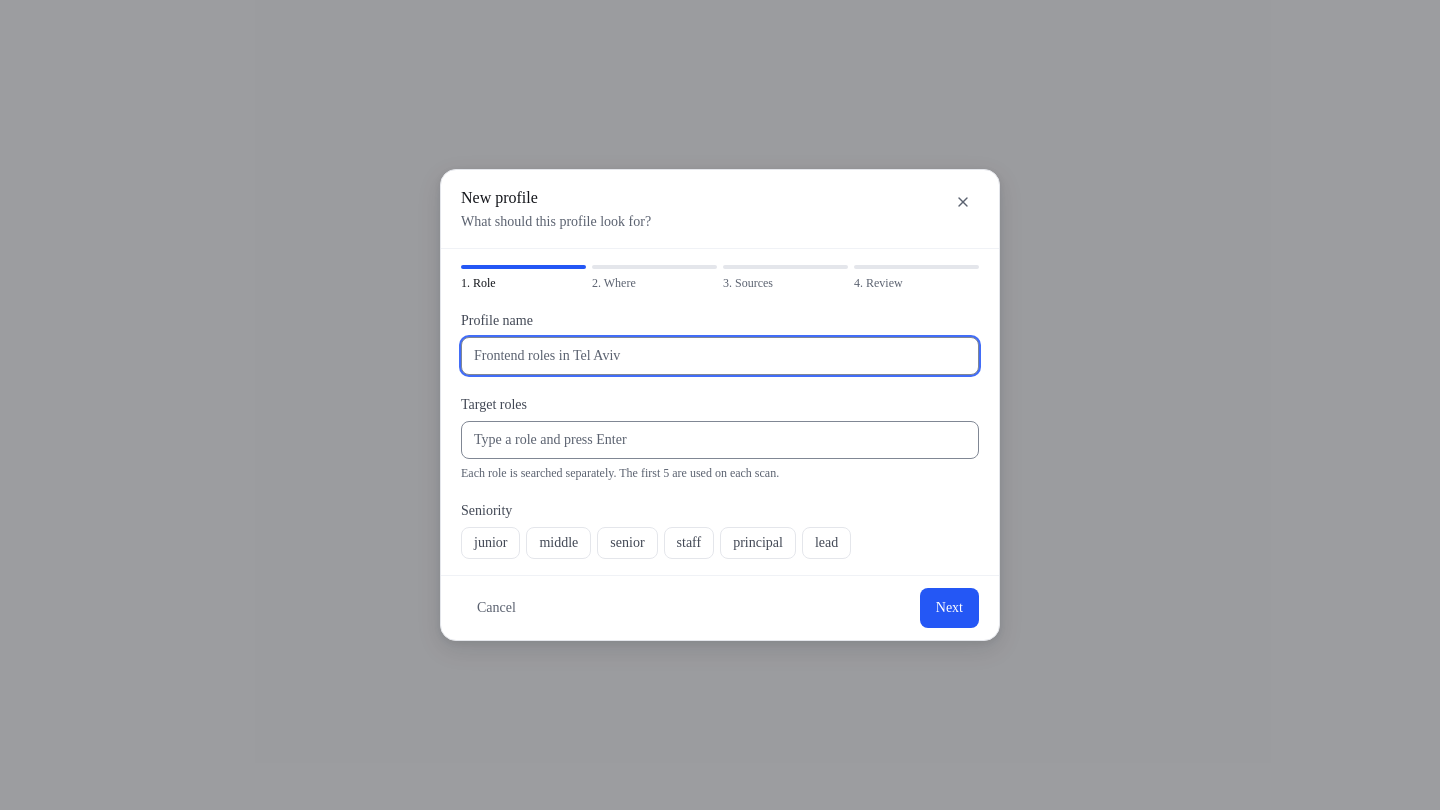
Test: ProfileFormDialog create › shows the server message and stays open when the profile is rejected
Type "Frontend" into the field labelled "Profile name" at coordinates (720, 356), box [461,337,979,375]
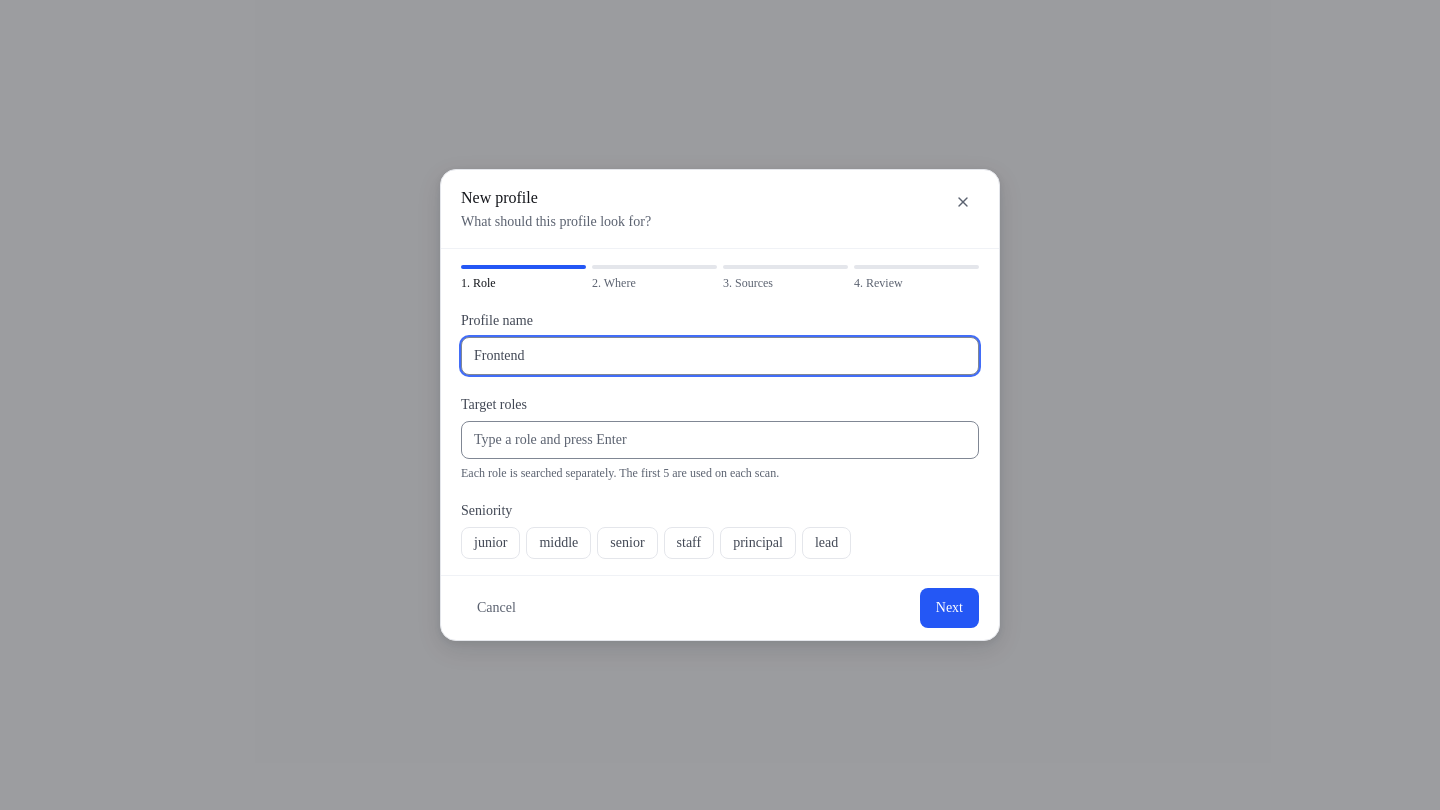
Type "React developer" into the field labelled "Target roles" at coordinates (720, 440), box [461,421,979,459]
Then press Enter
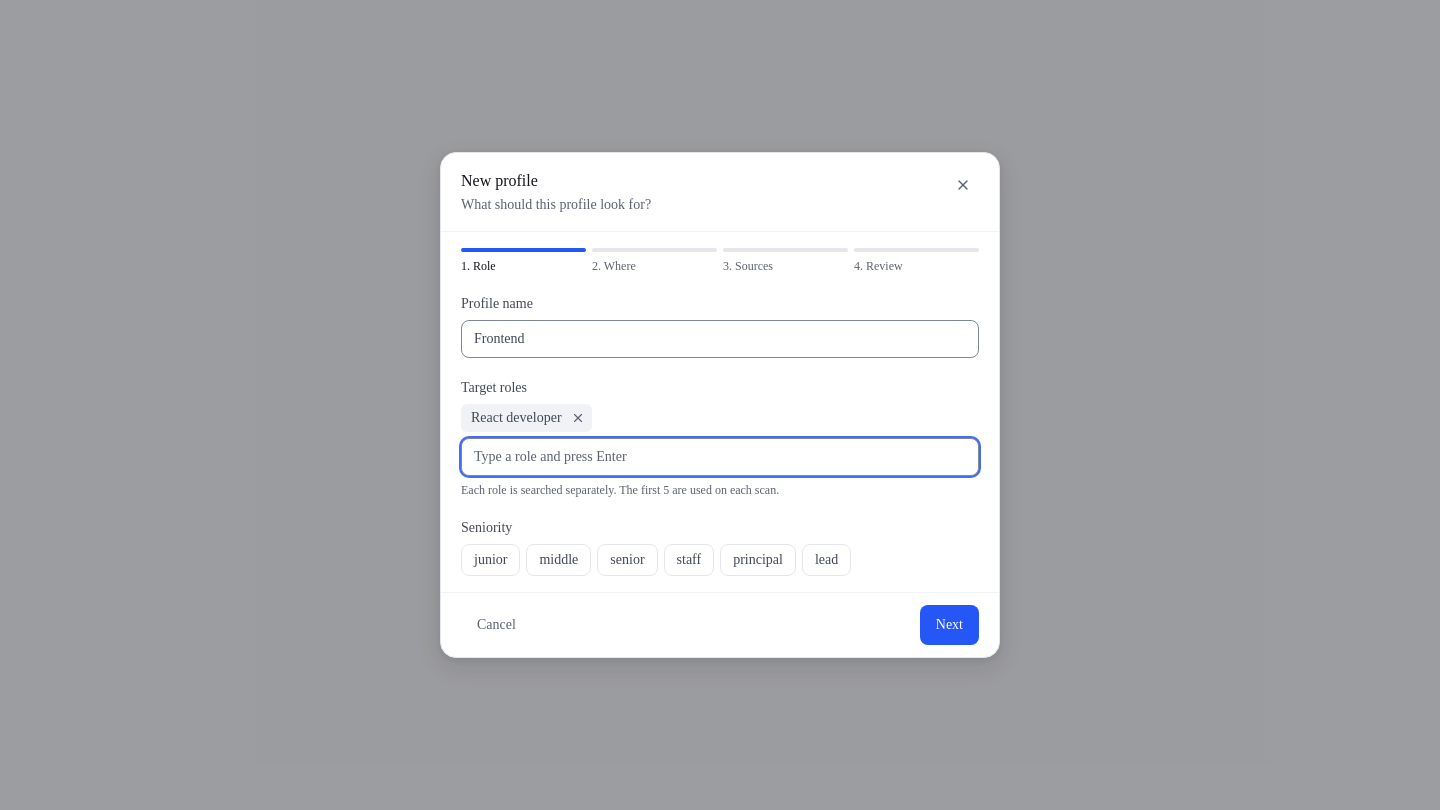
Click the button "Next" at coordinates (949, 625), box [920,605,979,645]
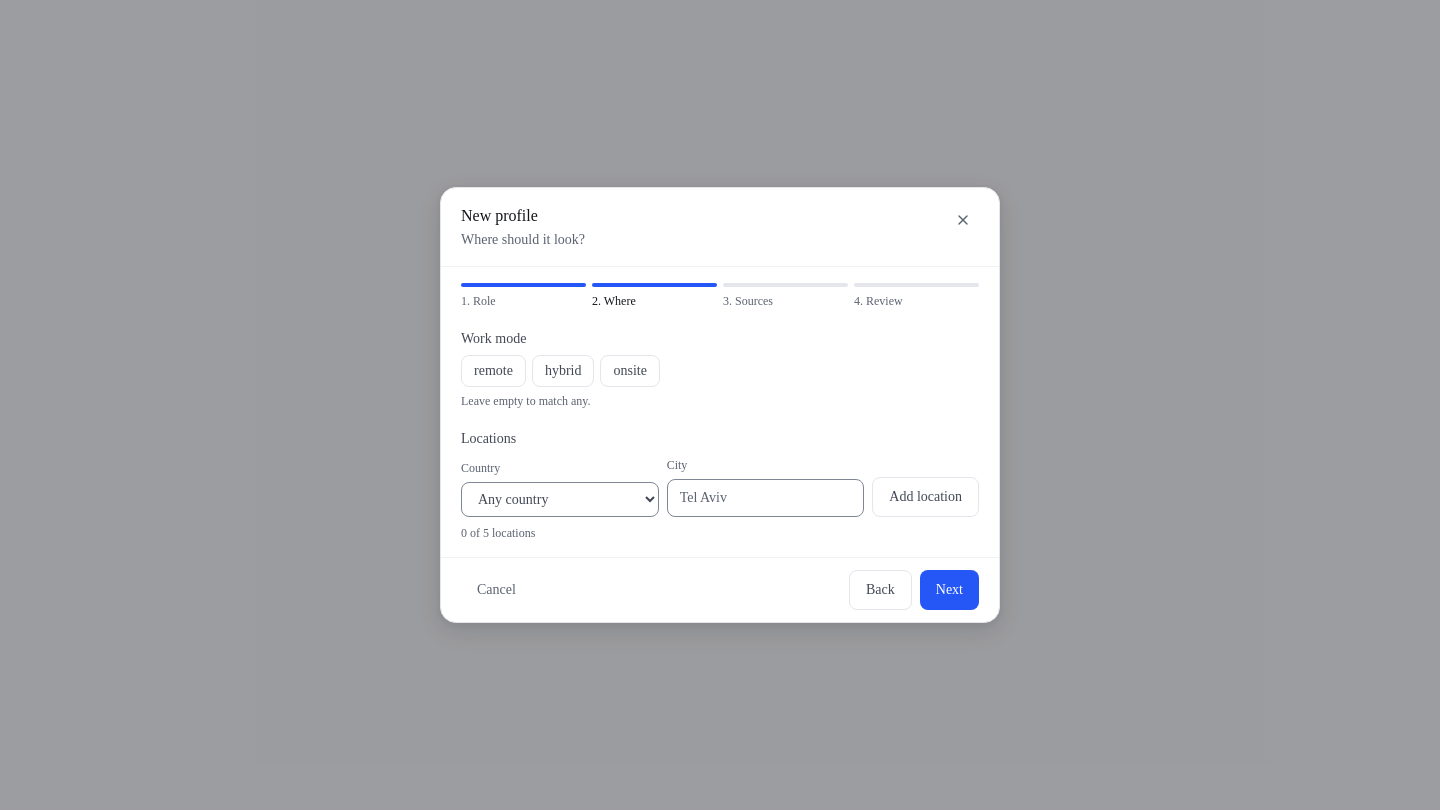
Click the button "Next" at coordinates (949, 590), box [920,570,979,610]
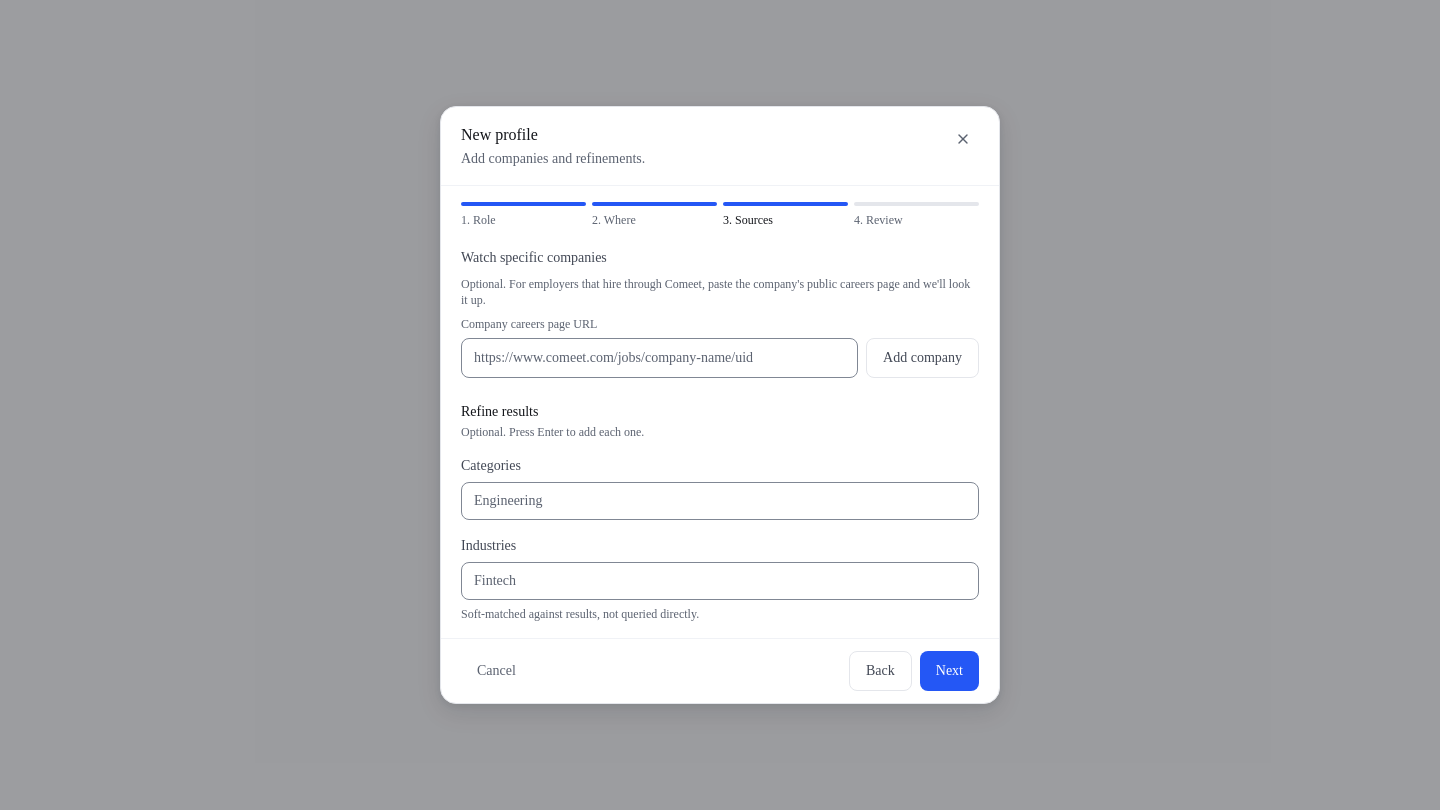
Click the button "Next" at coordinates (949, 671), box [920,651,979,691]
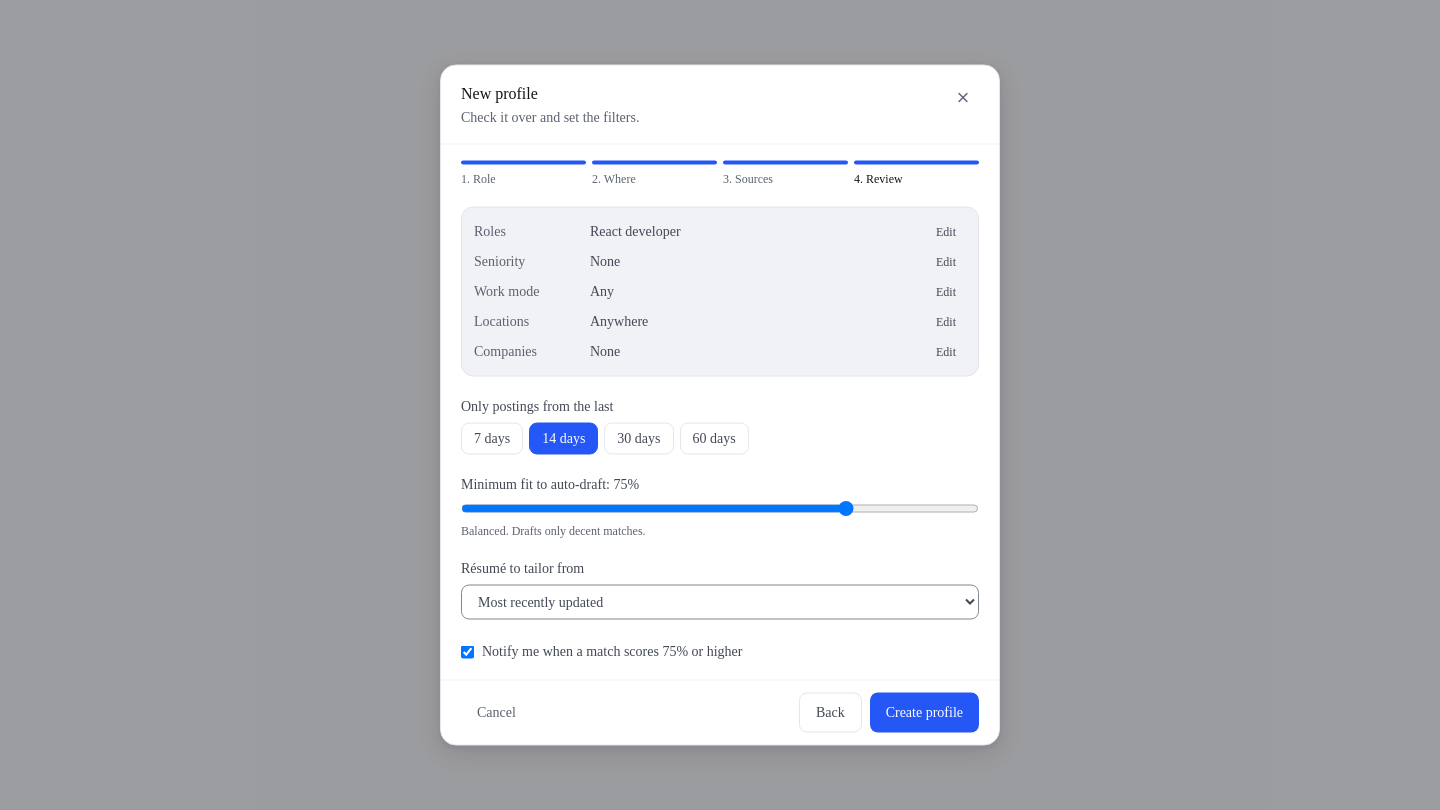
Click the button "Create profile" at coordinates (924, 712), box [870,692,979,732]
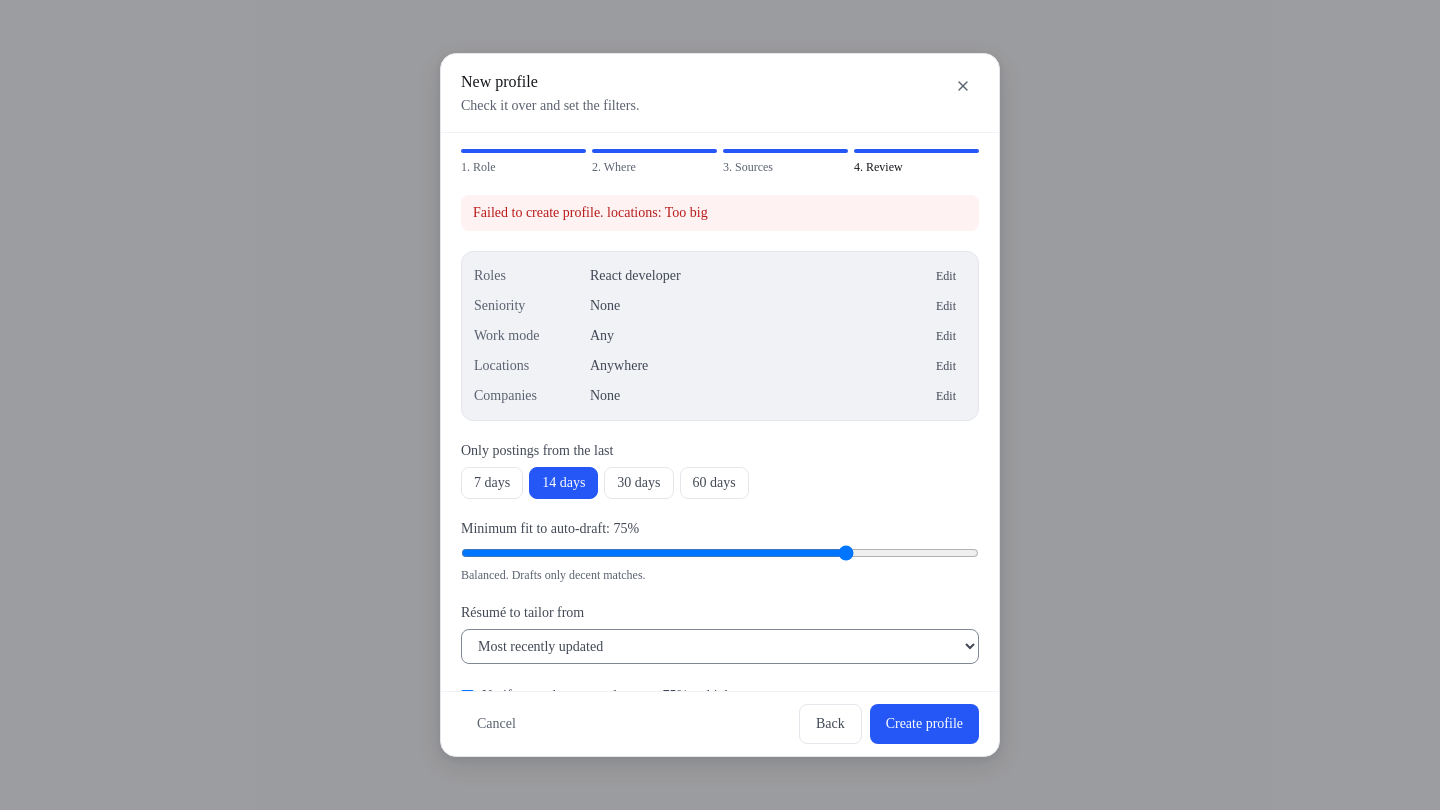
Now the text "Failed to create profile. locations: Too big" is shown, box [461,195,979,231]
